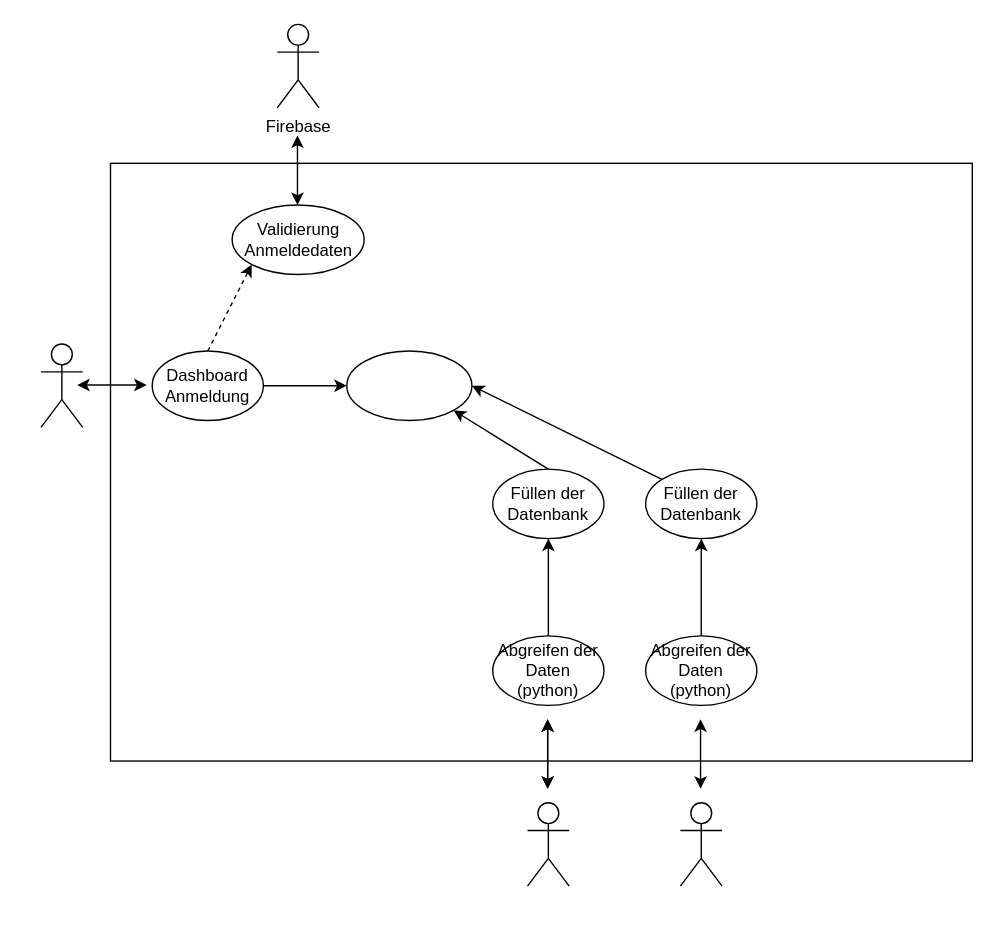
Some shapes in this 997 by 940 pixel diagram are drawn without their labels. Each missing label, with the centre of its shape:
Anwender: the point at 61,385
MQTT-Server: the point at 700,843
REST-API: the point at 547,843
Übersicht aller Sensorer: the point at 408,385
